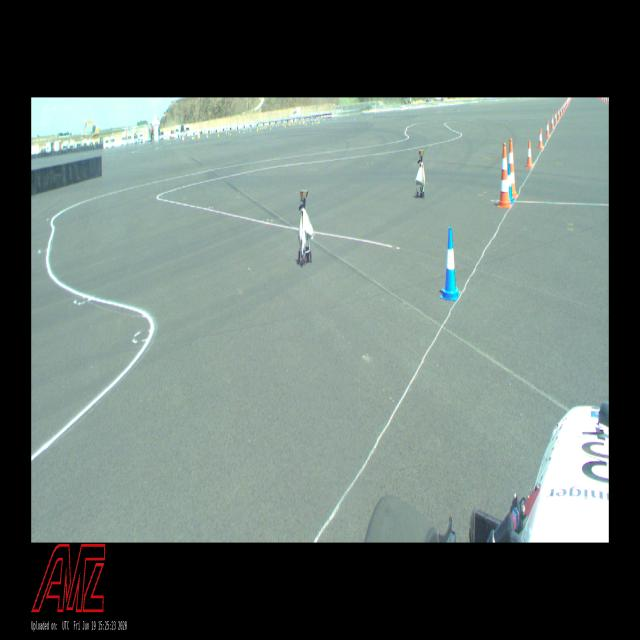blue_cone: (440, 227, 460, 301), (508, 164, 514, 203)
large_orange_cone: (497, 144, 512, 208), (508, 138, 518, 198)
orange_cone: (526, 140, 532, 167), (538, 128, 543, 148), (546, 120, 549, 136), (551, 115, 554, 128)
